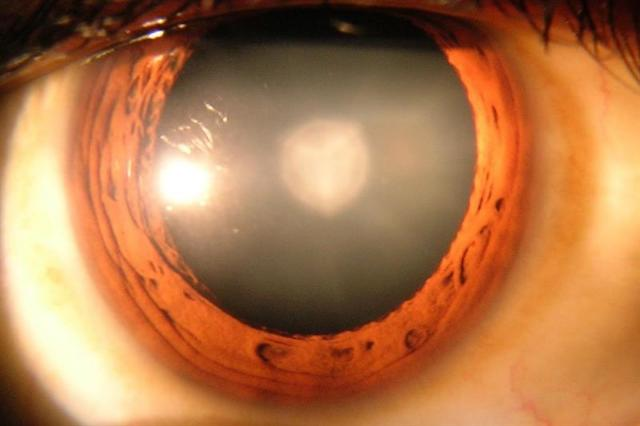eye: (66, 1, 534, 410)
